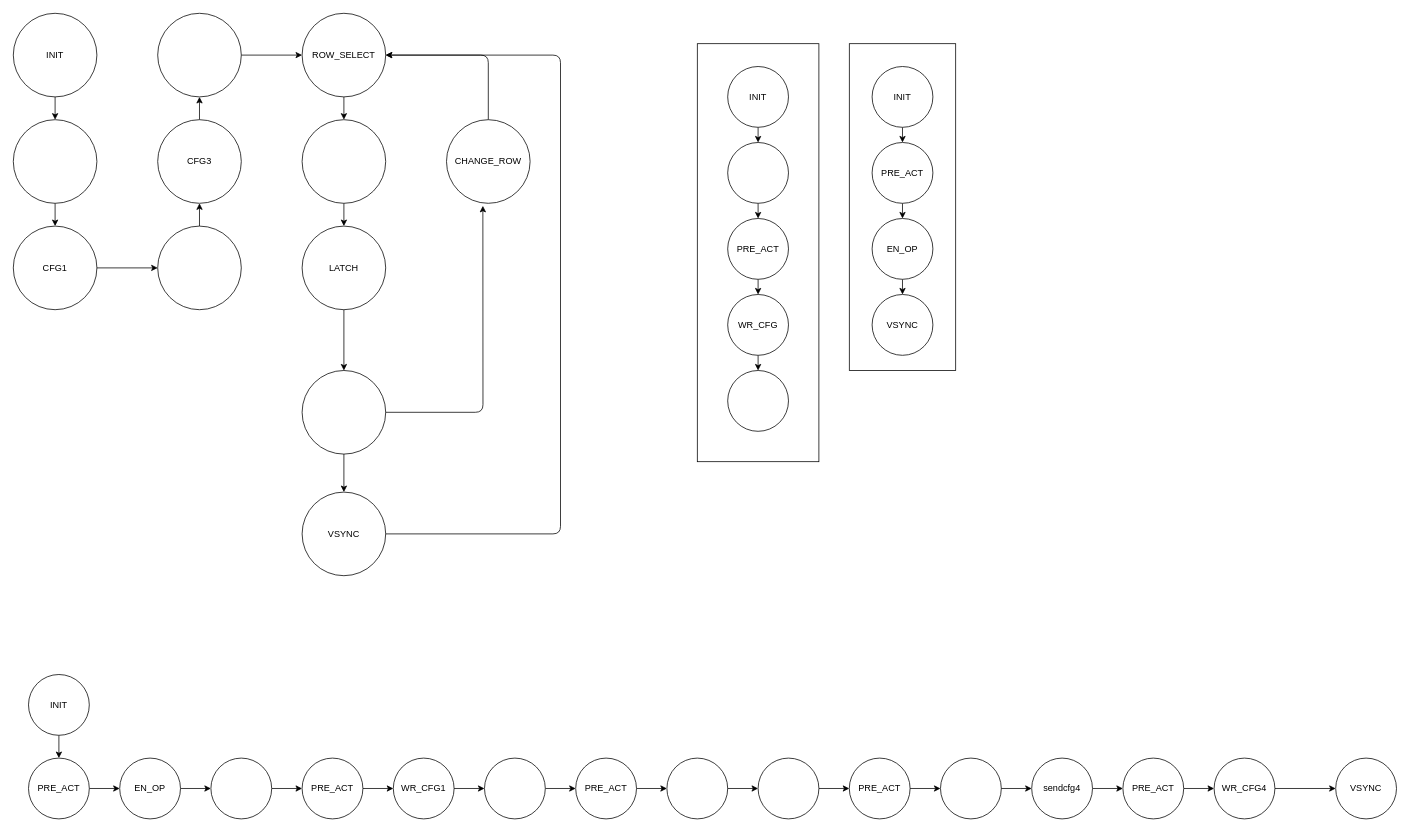
Image size: 1410x832. Some labels were removed from this diagram. The shapes that lost their labels are listed below. From the top down, each one's box as (x1, y1, x2, y2) in pixels, then its label:
(157, 13, 241, 97): CFG4
(13, 119, 97, 203): PRE_ACTS
(301, 119, 386, 203): SFT_DATA
(727, 142, 788, 203): DATA_CFG
(157, 225, 241, 310): CFG2
(301, 370, 386, 454): CONT_74
(727, 370, 788, 431): DONE
(210, 757, 272, 819): sendcfg1
(484, 757, 545, 819): sendcfg2
(666, 757, 728, 819): WR_CFG2
(757, 757, 819, 819): sendcfg3
(940, 757, 1001, 819): WR_CFG3
